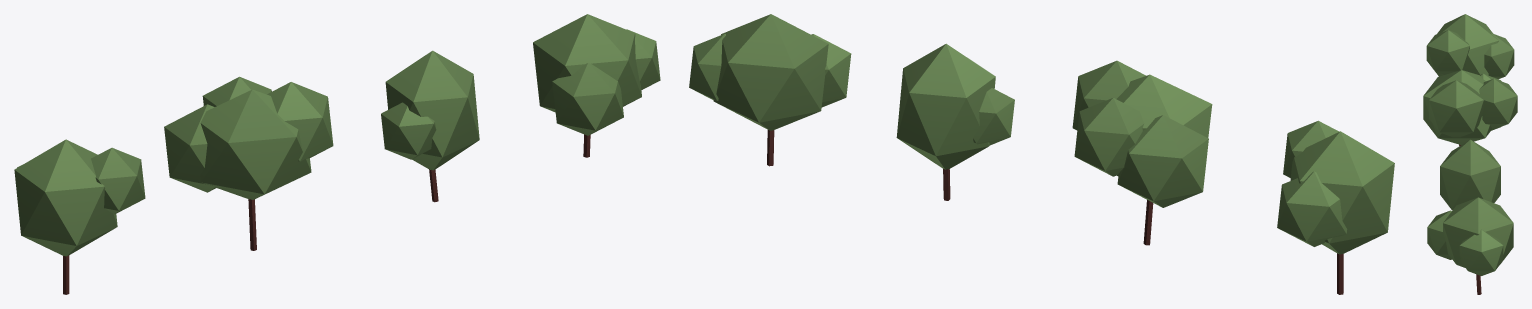
The model's file is trees.glb.
The picture shows the model from 3 angles, left to right: view 1: azimuth 30°, elevation 25°; view 2: azimuth 150°, elevation 25°; view 3: azimuth 270°, elevation 25°; orthographic projection. The views are drawn at different scales.
Parts seen in each view (by area): view 1: tree_1, tree_0, tree_3, tree_2; view 2: tree_1, tree_3, tree_0, tree_2; view 3: tree_1, tree_3, tree_0, tree_2.
Part boxes in pixels (left/top/right/bottom): tree_1: left=164, top=76, right=333, bottom=250; tree_0: left=14, top=139, right=145, bottom=294; tree_3: left=533, top=14, right=660, bottom=157; tree_2: left=381, top=50, right=479, bottom=202; tree_1: left=1072, top=60, right=1212, bottom=245; tree_3: left=689, top=14, right=851, bottom=166; tree_0: left=1277, top=120, right=1394, bottom=294; tree_2: left=896, top=43, right=1014, bottom=200; tree_1: left=1423, top=70, right=1517, bottom=145; tree_3: left=1427, top=197, right=1513, bottom=294; tree_0: left=1426, top=14, right=1514, bottom=79; tree_2: left=1440, top=139, right=1500, bottom=210.
Bounding box in the file's own units: 21.89 × 5.27 × 4.08.
